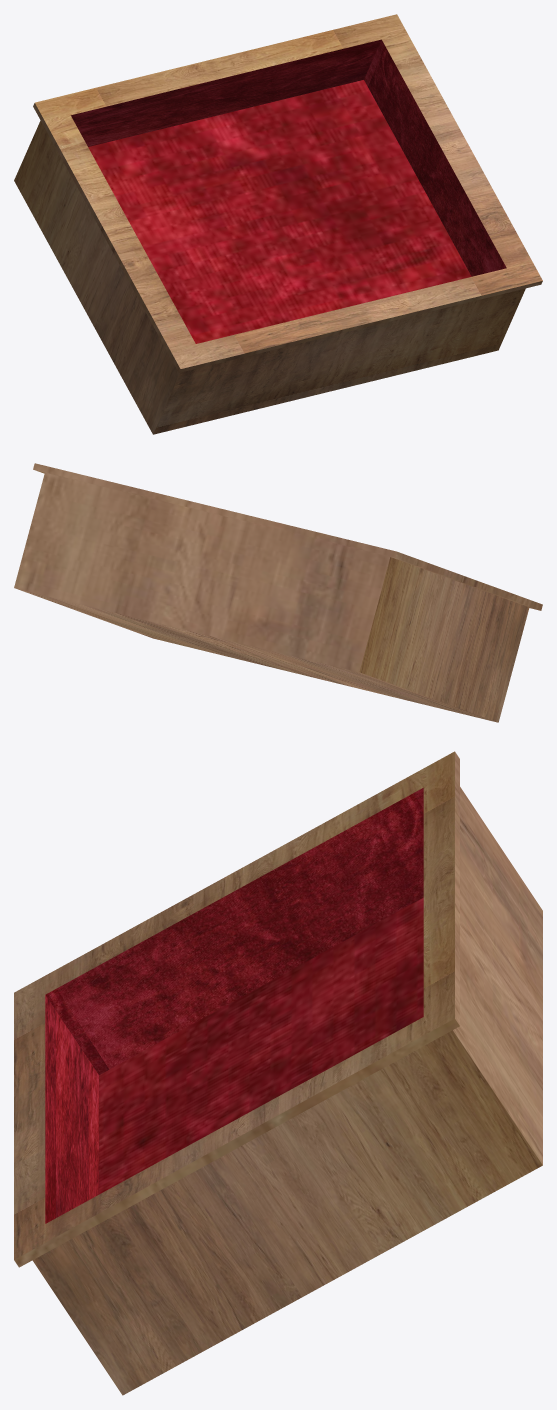
The model's file is Cover.fbx.
3 views of the same model, one above another, from view 1: azimuth 30°, elevation 25°; view 2: azimuth 150°, elevation 25°; view 3: azimuth 270°, elevation 25° (orthographic). The views are drawn at different scales.
Parts seen in each view (by area): view 1: cover; view 2: cover; view 3: cover.
Boxes of the visible parts, x1,y1,x2,y2 form: cover: (14, 14, 542, 434); cover: (14, 463, 542, 722); cover: (14, 751, 542, 1395).
Size of the model in its own units: 3.33 by 2.23 by 2.78.
Materials: 2 (2 with a texture image).
